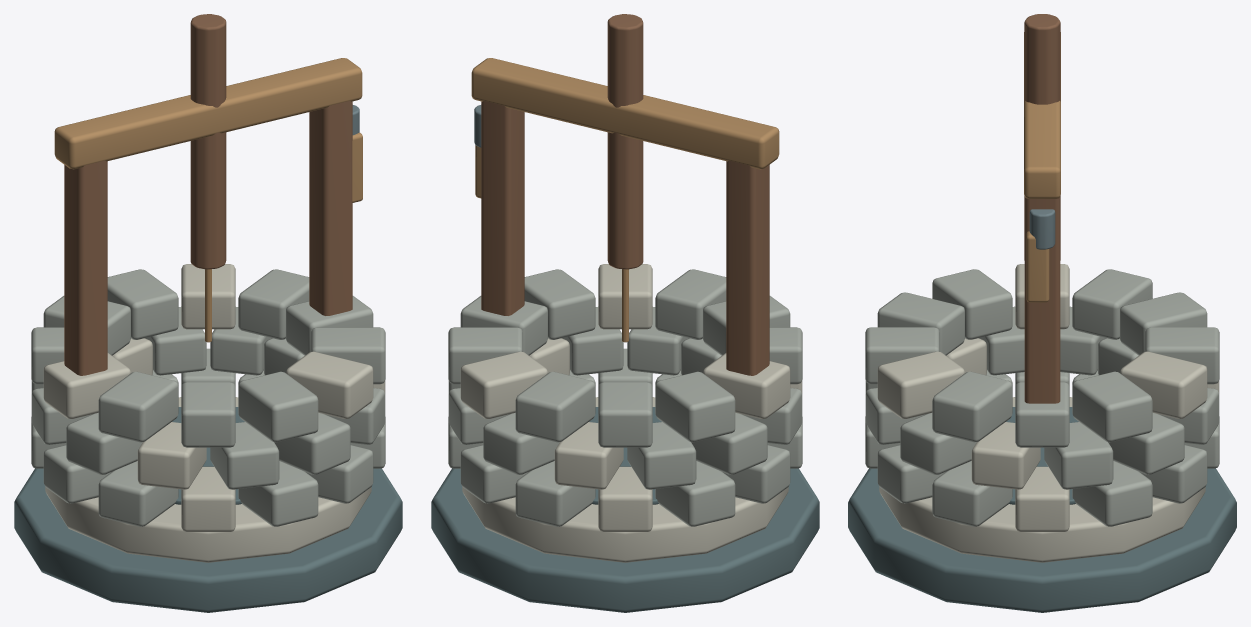
Rendered from SM_AncientWell_01.fbx.
The picture shows the model from 3 angles, left to right: view 1: azimuth 30°, elevation 25°; view 2: azimuth 150°, elevation 25°; view 3: azimuth 270°, elevation 25°; orthographic projection.
Parts seen in each view (by area): view 1: SM_AncientWell_01; view 2: SM_AncientWell_01; view 3: SM_AncientWell_01.
Part boxes in pixels (x1,y1,x2,y2): SM_AncientWell_01: (14,14,402,612); SM_AncientWell_01: (431,14,819,612); SM_AncientWell_01: (848,14,1236,612).
Bounding box in the file's own units: 2.5 × 3.64 × 2.5.
